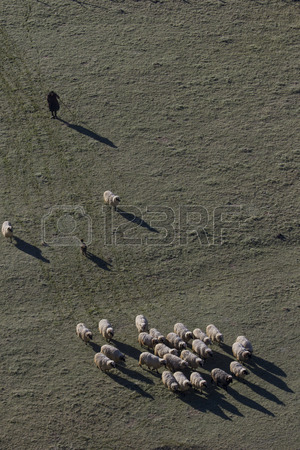sheep: (137, 350, 166, 374), (94, 352, 117, 376), (208, 367, 232, 390), (101, 343, 128, 363), (205, 322, 225, 348), (192, 338, 214, 360), (231, 340, 252, 363), (97, 316, 114, 344), (153, 341, 178, 360), (74, 320, 94, 343), (161, 369, 179, 394), (189, 371, 209, 393), (230, 360, 250, 382), (172, 322, 194, 341), (103, 189, 120, 210), (138, 332, 158, 349), (1, 220, 14, 244), (134, 314, 149, 333)
